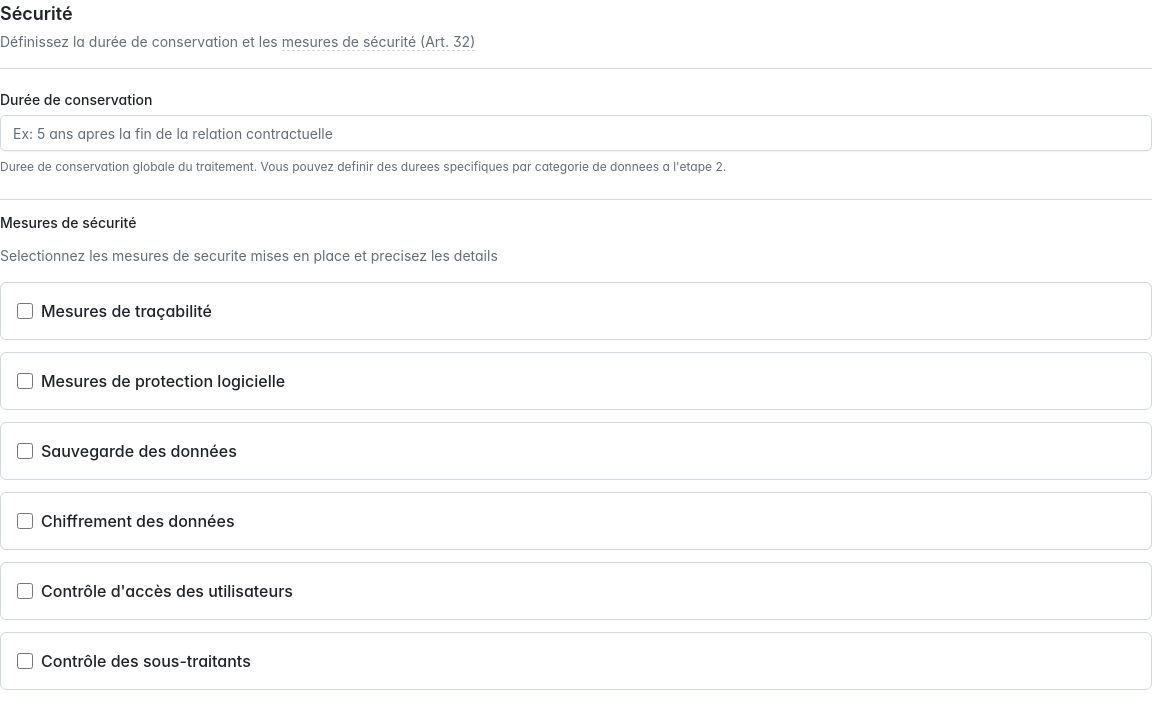
Test case: Step4Security › renders the retentionPeriod input; typing updates form state
In the field labelled "Durée de conservation": (576, 133) [0,115,1151,151], type "5 ans"
(page scrolled)
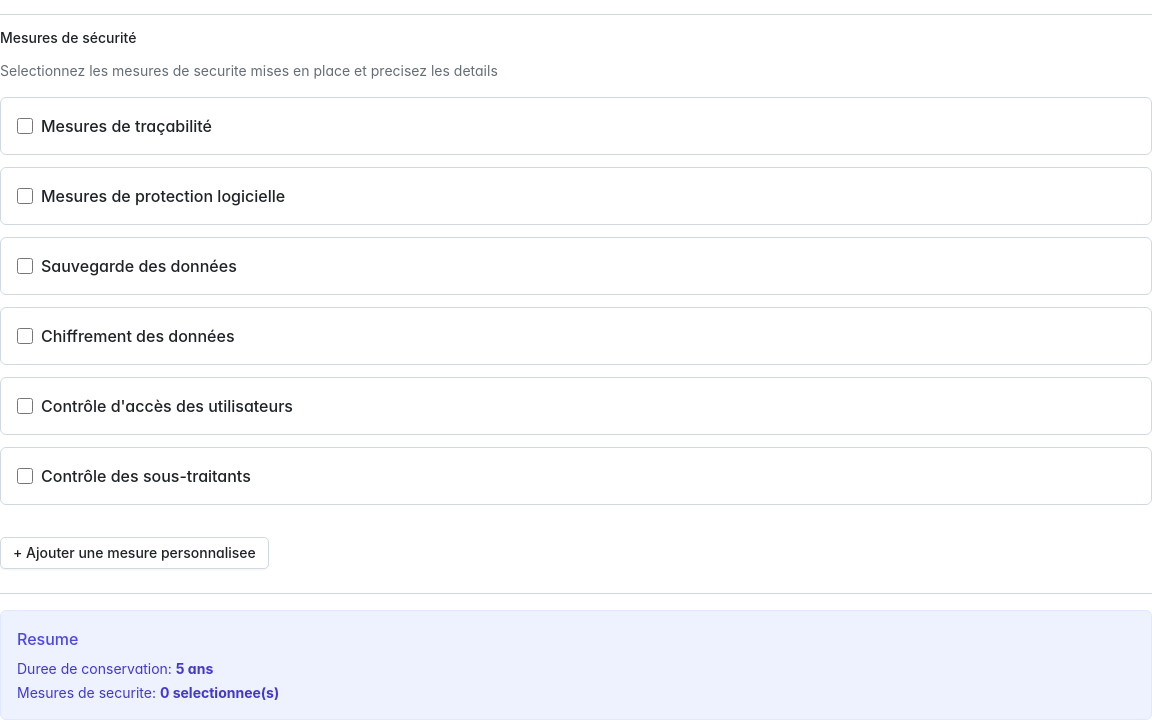
Expected: the text "5 ans" is shown, [176,660,213,677]
